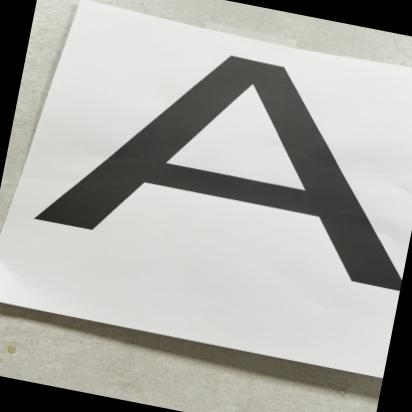seat: (11, 11, 412, 314)
